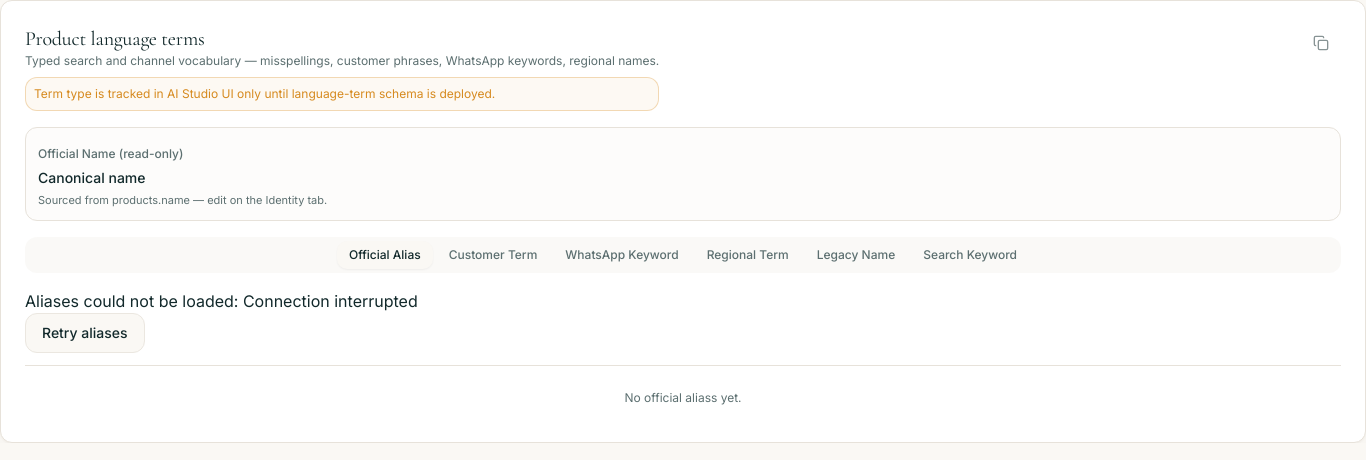
Test: canonical alias load recovery › shows a retry after a rejected read instead of claiming an empty catalogue
Click the button "Retry aliases" at [85, 333], box [25,313,144,353]
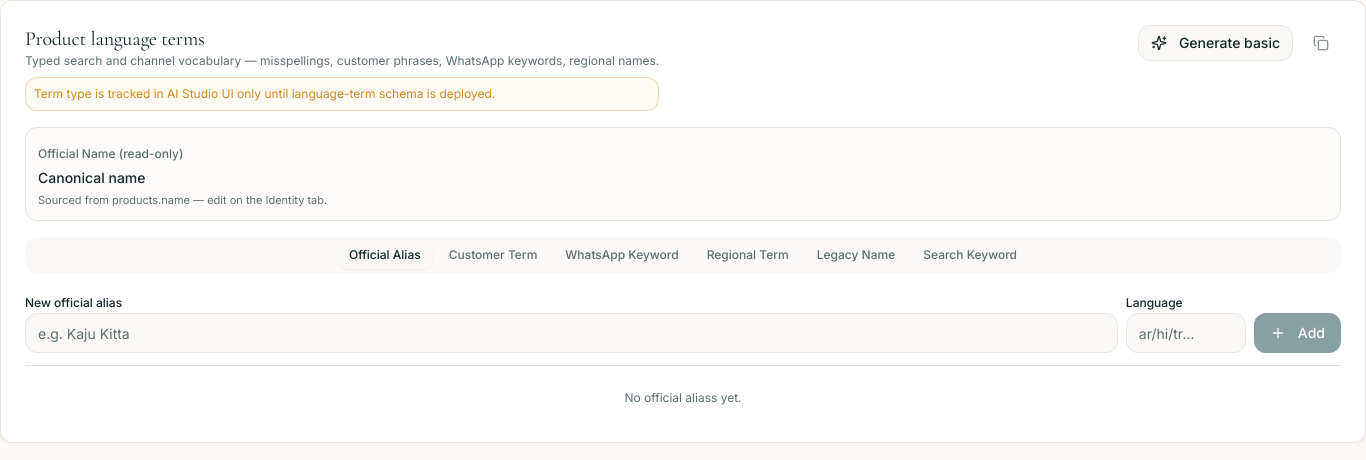
Now the text "Aliases could not be loaded" is gone
